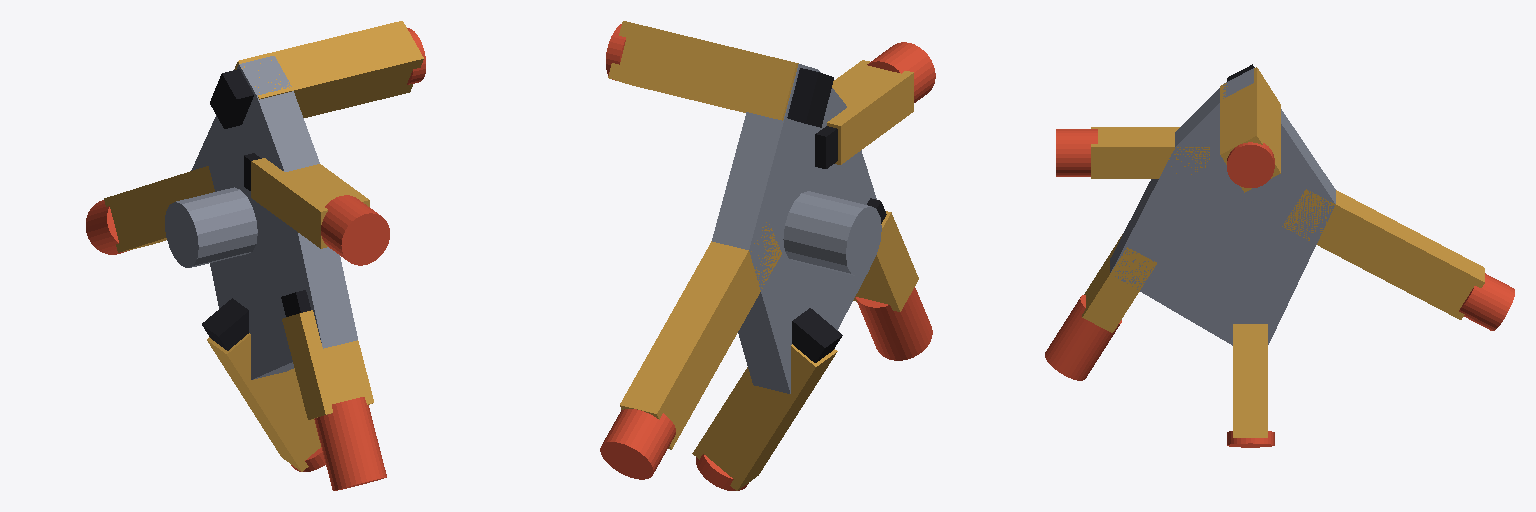
The robot description file, URDF, robot "g0057_c10":
<robot name="g0057_c10">
  <link name="palm">
    <visual name="palm_palm1">
      <origin xyz="0 0 0" rpy="0 0 0" />
      <geometry>
        <mesh filename="palm_palm1.obj" />
      </geometry>
      <material name="palm_palm1_mat">
        <color rgba="0.55 0.57 0.62 1" />
      </material>
    </visual>
    <collision>
      <origin xyz="0 0 0" rpy="0 0 0" />
      <geometry>
        <mesh filename="palm_palm1.obj" />
      </geometry>
    </collision>
    <visual name="palm_mount2">
      <origin xyz="0 0 0" rpy="0 0 0" />
      <geometry>
        <mesh filename="palm_mount2.obj" />
      </geometry>
      <material name="palm_mount2_mat">
        <color rgba="0.55 0.57 0.62 1" />
      </material>
    </visual>
    <collision>
      <origin xyz="0 0 0" rpy="0 0 0" />
      <geometry>
        <mesh filename="palm_mount2.obj" />
      </geometry>
    </collision>
    <visual name="palm_motor3">
      <origin xyz="-0.0045 -0.07625 -0.0335048095" rpy="1.04719755 -3.061617e-17 -5.30287619e-17" />
      <geometry>
        <box size="0.029 0.034 0.02" />
      </geometry>
      <material name="palm_motor3_mat">
        <color rgba="0.15 0.15 0.17 1" />
      </material>
    </visual>
    <collision>
      <origin xyz="-0.0045 -0.07625 -0.0335048095" rpy="1.04719755 -3.061617e-17 -5.30287619e-17" />
      <geometry>
        <box size="0.029 0.034 0.02" />
      </geometry>
    </collision>
    <visual name="palm_motor4">
      <origin xyz="-0.0045 -0.0325 0.04" rpy="1.8369702e-16 -6.123234e-17 -1.12481984e-32" />
      <geometry>
        <box size="0.029 0.034 0.02" />
      </geometry>
      <material name="palm_motor4_mat">
        <color rgba="0.15 0.15 0.17 1" />
      </material>
    </visual>
    <collision>
      <origin xyz="-0.0045 -0.0325 0.04" rpy="1.8369702e-16 -6.123234e-17 -1.12481984e-32" />
      <geometry>
        <box size="0.029 0.034 0.02" />
      </geometry>
    </collision>
    <visual name="palm_motor5">
      <origin xyz="-0.0117894192 -7.95431429e-19 -0.0735048095" rpy="1.57079633 -0.523598776 -1.41410032e-16" />
      <geometry>
        <box size="0.029 0.034 0.02" />
      </geometry>
      <material name="palm_motor5_mat">
        <color rgba="0.15 0.15 0.17 1" />
      </material>
    </visual>
    <collision>
      <origin xyz="-0.0117894192 -7.95431429e-19 -0.0735048095" rpy="1.57079633 -0.523598776 -1.41410032e-16" />
      <geometry>
        <box size="0.029 0.034 0.02" />
      </geometry>
    </collision>
    <visual name="palm_motor6">
      <origin xyz="-0.007 2.29621275e-19 0.08" rpy="-1.06057524e-16 1.04719755 1.57079633" />
      <geometry>
        <box size="0.029 0.034 0.02" />
      </geometry>
      <material name="palm_motor6_mat">
        <color rgba="0.15 0.15 0.17 1" />
      </material>
    </visual>
    <collision>
      <origin xyz="-0.007 2.29621275e-19 0.08" rpy="-1.06057524e-16 1.04719755 1.57079633" />
      <geometry>
        <box size="0.029 0.034 0.02" />
      </geometry>
    </collision>
    <visual name="palm_motor7">
      <origin xyz="0 0.0335048095 0.00375" rpy="1.57079633 1.04719755 -1.57079633" />
      <geometry>
        <box size="0.029 0.034 0.02" />
      </geometry>
      <material name="palm_motor7_mat">
        <color rgba="0.15 0.15 0.17 1" />
      </material>
    </visual>
    <collision>
      <origin xyz="0 0.0335048095 0.00375" rpy="1.57079633 1.04719755 -1.57079633" />
      <geometry>
        <box size="0.029 0.034 0.02" />
      </geometry>
    </collision>
    <inertial>
      <origin xyz="1.64261526e-19 -0.0145355074 -0.00623926827" rpy="1.57079633 -1.36880878 1.57079633" />
      <mass value="0.752005907" />
      <inertia ixx="0.000812735968" ixy="0" ixz="0" iyy="0.00161971793" iyz="0" izz="0.00236026133" />
    </inertial>
  </link>
  <link name="f0_link0">
    <visual name="f0_link0_link1">
      <origin xyz="0.01875 0 -1.38777878e-17" rpy="0 4.06369831e-17 0" />
      <geometry>
        <box size="0.0615 0.033 0.024" />
      </geometry>
      <material name="f0_link0_link1_mat">
        <color rgba="0.80 0.62 0.30 1" />
      </material>
    </visual>
    <collision>
      <origin xyz="0.01875 0 -1.38777878e-17" rpy="0 4.06369831e-17 0" />
      <geometry>
        <box size="0.0615 0.033 0.024" />
      </geometry>
    </collision>
    <inertial>
      <origin xyz="0.01875 0 0" rpy="0 0 0" />
      <mass value="0.085239" />
      <inertia ixx="1.18269113e-05" ixy="0" ixz="0" iyy="3.09577393e-05" iyz="0" izz="3.46017066e-05" />
    </inertial>
  </link>
  <link name="f0_link1">
    <visual name="f0_link1_link1">
      <origin xyz="0.029 0 -6.9388939e-18" rpy="-1.57079633 -0 -1.57079633" />
      <geometry>
        <cylinder radius="0.0165" length="0.049" />
      </geometry>
      <material name="f0_link1_link1_mat">
        <color rgba="0.85 0.35 0.25 1" />
      </material>
    </visual>
    <collision>
      <origin xyz="0.029 0 -6.9388939e-18" rpy="-1.57079633 -0 -1.57079633" />
      <geometry>
        <cylinder radius="0.0165" length="0.049" />
      </geometry>
    </collision>
    <inertial>
      <origin xyz="0.029 0 0" rpy="0 0 0" />
      <mass value="0.106270851" />
      <inertia ixx="1.35696277e-05" ixy="0" ixz="0" iyy="5.30015704e-05" iyz="0" izz="5.30015704e-05" />
    </inertial>
  </link>
  <link name="f1_link0">
    <visual name="f1_link0_link1">
      <origin xyz="0.02875 0 0" rpy="0 -0 0" />
      <geometry>
        <box size="0.0815 0.033 0.024" />
      </geometry>
      <material name="f1_link0_link1_mat">
        <color rgba="0.80 0.62 0.30 1" />
      </material>
    </visual>
    <collision>
      <origin xyz="0.02875 0 0" rpy="0 -0 0" />
      <geometry>
        <box size="0.0815 0.033 0.024" />
      </geometry>
    </collision>
    <inertial>
      <origin xyz="0.02875 0 0" rpy="0 0 0" />
      <mass value="0.112959" />
      <inertia ixx="1.56730613e-05" ixy="0" ixz="0" iyy="6.79471918e-05" iyz="0" izz="7.27761891e-05" />
    </inertial>
  </link>
  <link name="f1_link1">
    <visual name="f1_link1_link1">
      <origin xyz="0.019 0 0" rpy="-1.57079633 -0 -1.57079633" />
      <geometry>
        <cylinder radius="0.0165" length="0.029" />
      </geometry>
      <material name="f1_link1_link1_mat">
        <color rgba="0.85 0.35 0.25 1" />
      </material>
    </visual>
    <collision>
      <origin xyz="0.019 0 0" rpy="-1.57079633 -0 -1.57079633" />
      <geometry>
        <cylinder radius="0.0165" length="0.029" />
      </geometry>
    </collision>
    <inertial>
      <origin xyz="0.019 0 0" rpy="0 0 0" />
      <mass value="0.0763354" />
      <inertia ixx="9.49466441e-06" ixy="0" ixz="0" iyy="2.24143997e-05" iyz="0" izz="2.24143997e-05" />
    </inertial>
  </link>
  <link name="f2_link0">
    <visual name="f2_link0_link1">
      <origin xyz="0.03875 0 1.54074396e-33" rpy="-5.52779628e-33 -5.52024069e-33 4.06369831e-17" />
      <geometry>
        <box size="0.1015 0.033 0.024" />
      </geometry>
      <material name="f2_link0_link1_mat">
        <color rgba="0.80 0.62 0.30 1" />
      </material>
    </visual>
    <collision>
      <origin xyz="0.03875 0 1.54074396e-33" rpy="-5.52779628e-33 -5.52024069e-33 4.06369831e-17" />
      <geometry>
        <box size="0.1015 0.033 0.024" />
      </geometry>
    </collision>
    <inertial>
      <origin xyz="0.03875 0 0" rpy="0 0 0" />
      <mass value="0.140679" />
      <inertia ixx="1.95192113e-05" ixy="0" ixz="0" iyy="0.000127528444" iyz="0" izz="0.000133542472" />
    </inertial>
  </link>
  <link name="f2_link1">
    <visual name="f2_link1_link1">
      <origin xyz="0.009 0 0" rpy="-1.57079633 -0 -1.57079633" />
      <geometry>
        <cylinder radius="0.0165" length="0.009" />
      </geometry>
      <material name="f2_link1_link1_mat">
        <color rgba="0.85 0.35 0.25 1" />
      </material>
    </visual>
    <collision>
      <origin xyz="0.009 0 0" rpy="-1.57079633 -0 -1.57079633" />
      <geometry>
        <cylinder radius="0.0165" length="0.009" />
      </geometry>
    </collision>
    <inertial>
      <origin xyz="0.009 0 0" rpy="0 0 0" />
      <mass value="0.046399949" />
      <inertia ixx="5.41970115e-06" ixy="0" ixz="0" iyy="7.09430898e-06" iyz="0" izz="7.09430898e-06" />
    </inertial>
  </link>
  <link name="f3_link0">
    <visual name="f3_link0_link1">
      <origin xyz="0.04375 1.38777878e-17 0" rpy="3.98552134e-18 1.1024023e-33 1.87768018e-33" />
      <geometry>
        <box size="0.1115 0.033 0.029" />
      </geometry>
      <material name="f3_link0_link1_mat">
        <color rgba="0.80 0.62 0.30 1" />
      </material>
    </visual>
    <collision>
      <origin xyz="0.04375 1.38777878e-17 0" rpy="3.98552134e-18 1.1024023e-33 1.87768018e-33" />
      <geometry>
        <box size="0.1115 0.033 0.029" />
      </geometry>
    </collision>
    <inertial>
      <origin xyz="0.04375 0 0" rpy="0 0 0" />
      <mass value="0.186734625" />
      <inertia ixx="3.00331522e-05" ixy="0" ixz="0" iyy="0.000206547947" iyz="0" izz="0.000210407129" />
    </inertial>
  </link>
  <link name="f3_link1">
    <visual name="f3_link1_link1">
      <origin xyz="0.009 1.38777878e-17 -6.9388939e-18" rpy="-1.57079633 -0 -1.57079633" />
      <geometry>
        <cylinder radius="0.0165" length="0.009" />
      </geometry>
      <material name="f3_link1_link1_mat">
        <color rgba="0.85 0.35 0.25 1" />
      </material>
    </visual>
    <collision>
      <origin xyz="0.009 1.38777878e-17 -6.9388939e-18" rpy="-1.57079633 -0 -1.57079633" />
      <geometry>
        <cylinder radius="0.0165" length="0.009" />
      </geometry>
    </collision>
    <inertial>
      <origin xyz="0.009 0 0" rpy="0 0 0" />
      <mass value="0.046399949" />
      <inertia ixx="5.41970115e-06" ixy="0" ixz="0" iyy="7.09430898e-06" iyz="0" izz="7.09430898e-06" />
    </inertial>
  </link>
  <link name="f4_link0">
    <visual name="f4_link0_link1">
      <origin xyz="0.02375 0 -3.46944695e-18" rpy="0 2.57628149e-17 0" />
      <geometry>
        <box size="0.0715 0.024 0.033" />
      </geometry>
      <material name="f4_link0_link1_mat">
        <color rgba="0.80 0.62 0.30 1" />
      </material>
    </visual>
    <collision>
      <origin xyz="0.02375 0 -3.46944695e-18" rpy="0 2.57628149e-17 0" />
      <geometry>
        <box size="0.0715 0.024 0.033" />
      </geometry>
    </collision>
    <inertial>
      <origin xyz="0.02375 0 0" rpy="0 0 0" />
      <mass value="0.099099" />
      <inertia ixx="1.37499863e-05" ixy="0" ixz="0" iyy="5.12114728e-05" iyz="0" izz="4.69749906e-05" />
    </inertial>
  </link>
  <link name="f4_link1">
    <visual name="f4_link1_link1">
      <origin xyz="0.03375 0 6.9388939e-18" rpy="0 2.57628149e-17 0" />
      <geometry>
        <box size="0.0915 0.024 0.033" />
      </geometry>
      <material name="f4_link1_link1_mat">
        <color rgba="0.80 0.62 0.30 1" />
      </material>
    </visual>
    <collision>
      <origin xyz="0.03375 0 6.9388939e-18" rpy="0 2.57628149e-17 0" />
      <geometry>
        <box size="0.0915 0.024 0.033" />
      </geometry>
    </collision>
    <inertial>
      <origin xyz="0.03375 0 0" rpy="0 0 0" />
      <mass value="0.126819" />
      <inertia ixx="1.75961363e-05" ixy="0" ixz="0" iyy="9.99888553e-05" iyz="0" izz="9.45673431e-05" />
    </inertial>
  </link>
  <link name="f4_link2">
    <visual name="f4_link2_link1">
      <origin xyz="0.019 0 5.20417043e-18" rpy="-1.57079633 -0 -1.57079633" />
      <geometry>
        <cylinder radius="0.0165" length="0.029" />
      </geometry>
      <material name="f4_link2_link1_mat">
        <color rgba="0.85 0.35 0.25 1" />
      </material>
    </visual>
    <collision>
      <origin xyz="0.019 0 5.20417043e-18" rpy="-1.57079633 -0 -1.57079633" />
      <geometry>
        <cylinder radius="0.0165" length="0.029" />
      </geometry>
    </collision>
    <inertial>
      <origin xyz="0.019 0 0" rpy="0 0 0" />
      <mass value="0.0763354" />
      <inertia ixx="9.49466441e-06" ixy="0" ixz="0" iyy="2.24143997e-05" iyz="0" izz="2.24143997e-05" />
    </inertial>
  </link>
  <joint name="f0_j0" type="revolute">
    <parent link="palm" />
    <child link="f0_link0" />
    <origin xyz="-0.0045 -0.08 -0.04" rpy="0 1.04719755 -1.57079633" />
    <axis xyz="0 1 6.123234e-17" />
    <limit effort="0.5" lower="-0.523598776" upper="0.523598776" velocity="5" />
    <dynamics damping="0.0775033" friction="0" />
  </joint>
  <joint name="f0_j1" type="revolute">
    <parent link="f0_link0" />
    <child link="f0_link1" />
    <origin xyz="0.04 0 0" rpy="0 0 0" />
    <axis xyz="0 1 6.123234e-17" />
    <limit effort="0.5" lower="-0.523598776" upper="0.523598776" velocity="5" />
    <dynamics damping="0.0775033" friction="0" />
  </joint>
  <joint name="f1_j0" type="revolute">
    <parent link="palm" />
    <child link="f1_link0" />
    <origin xyz="-0.0045 -0.04 0.04" rpy="0 1.8369702e-16 -1.57079633" />
    <axis xyz="-0 -1 -6.123234e-17" />
    <limit effort="0.5" lower="-0.523598776" upper="0.523598776" velocity="5" />
    <dynamics damping="0.0775033" friction="0" />
  </joint>
  <joint name="f1_j1" type="revolute">
    <parent link="f1_link0" />
    <child link="f1_link1" />
    <origin xyz="0.06 0 0" rpy="0 0 0" />
    <axis xyz="-0 -1 -6.123234e-17" />
    <limit effort="0.5" lower="-0.523598776" upper="0.523598776" velocity="5" />
    <dynamics damping="0.0775033" friction="0" />
  </joint>
  <joint name="f2_j0" type="revolute">
    <parent link="palm" />
    <child link="f2_link0" />
    <origin xyz="-0.00803941916 0 -0.08" rpy="1.57079633 1.04719755 2.12115048e-16" />
    <axis xyz="0 1 6.123234e-17" />
    <limit effort="0.5" lower="-0.523598776" upper="0.523598776" velocity="5" />
    <dynamics damping="0.0775033" friction="0" />
  </joint>
  <joint name="f2_j1" type="revolute">
    <parent link="f2_link0" />
    <child link="f2_link1" />
    <origin xyz="0.08 0 0" rpy="0 0 0" />
    <axis xyz="0 1 6.123234e-17" />
    <limit effort="0.5" lower="-0.523598776" upper="0.523598776" velocity="5" />
    <dynamics damping="0.0775033" friction="0" />
  </joint>
  <joint name="f3_j0" type="revolute">
    <parent link="palm" />
    <child link="f3_link0" />
    <origin xyz="0.0005 0 0.08" rpy="-1.04719755 -5.30287619e-17 -3.061617e-17" />
    <axis xyz="-0 -1 -6.123234e-17" />
    <limit effort="0.5" lower="-0.523598776" upper="0.523598776" velocity="5" />
    <dynamics damping="0.0775033" friction="0" />
  </joint>
  <joint name="f3_j1" type="revolute">
    <parent link="f3_link0" />
    <child link="f3_link1" />
    <origin xyz="0.09 0 0" rpy="0 0 0" />
    <axis xyz="0 0 1" />
    <limit effort="0.5" lower="-0.523598776" upper="1.57079633" velocity="5" />
    <dynamics damping="0.0775033" friction="0" />
  </joint>
  <joint name="f4_j0" type="revolute">
    <parent link="palm" />
    <child link="f4_link0" />
    <origin xyz="0 0.04 0" rpy="3.14159265 0.523598776 1.57079633" />
    <axis xyz="0 0 1" />
    <limit effort="0.5" lower="-0.523598776" upper="1.57079633" velocity="5" />
    <dynamics damping="0.0775033" friction="0" />
  </joint>
  <joint name="f4_j1" type="revolute">
    <parent link="f4_link0" />
    <child link="f4_link1" />
    <origin xyz="0.05 0 0" rpy="0 0 0" />
    <axis xyz="0 0 1" />
    <limit effort="0.5" lower="-0.523598776" upper="1.57079633" velocity="5" />
    <dynamics damping="0.0775033" friction="0" />
  </joint>
  <joint name="f4_j2" type="revolute">
    <parent link="f4_link1" />
    <child link="f4_link2" />
    <origin xyz="0.07 0 0" rpy="0 0 0" />
    <axis xyz="0 0 1" />
    <limit effort="0.5" lower="-0.523598776" upper="1.57079633" velocity="5" />
    <dynamics damping="0.0775033" friction="0" />
  </joint>
</robot>

--- Facts derived from the render (not from the file) ---
3 views of the same robot in one strip: view 1: azimuth 30°, elevation 25°; view 2: azimuth 150°, elevation 25°; view 3: azimuth 270°, elevation 25° (orthographic).
Model g0057_c10 with 12 links and 11 joints (11 revolute), rooted at palm, posed every joint at zero.
Visible links, largest first — view 1: palm, f3_link0, f2_link0, f0_link0, f1_link0, f0_link1, f1_link1, f4_link1, f4_link2, f4_link0; view 2: palm, f3_link0, f4_link1, f2_link0, f1_link0, f4_link0, f4_link2, f0_link1, f0_link0, f1_link1, f2_link1, f3_link1; view 3: palm, f4_link1, f1_link0, f4_link0, f2_link0, f3_link0, f0_link0, f0_link1, f4_link2, f3_link1, f1_link1, f2_link1.
Link boxes in pixels (x1,y1,x2,y2): palm: (165, 56, 357, 379); f3_link0: (234, 21, 423, 117); f2_link0: (207, 333, 320, 471); f0_link0: (282, 310, 373, 419); f1_link0: (251, 158, 369, 248); f0_link1: (314, 397, 386, 490); f1_link1: (321, 195, 389, 265); f4_link1: (104, 177, 177, 252); f4_link2: (86, 200, 129, 254); f4_link0: (172, 166, 214, 200); palm: (712, 64, 886, 393); f3_link0: (608, 21, 798, 120); f4_link1: (620, 281, 742, 449); f2_link0: (692, 344, 837, 490); f1_link0: (827, 60, 913, 164); f4_link0: (674, 222, 781, 350); f4_link2: (600, 409, 675, 479); f0_link1: (855, 287, 932, 360); f0_link0: (853, 211, 918, 311); f1_link1: (867, 42, 935, 102); f2_link1: (696, 454, 748, 490); f3_link1: (606, 24, 625, 80); palm: (1110, 64, 1335, 345); f4_link1: (1364, 207, 1484, 319); f1_link0: (1091, 127, 1209, 178); f4_link0: (1282, 189, 1395, 273); f2_link0: (1233, 324, 1267, 437); f3_link0: (1220, 67, 1280, 192); f0_link0: (1082, 234, 1156, 332); f0_link1: (1045, 295, 1121, 380); f4_link2: (1459, 273, 1514, 330); f3_link1: (1227, 142, 1274, 187); f1_link1: (1056, 129, 1097, 176); f2_link1: (1227, 431, 1274, 447).
Bounding box of the posed robot: 0.156 × 0.3222 × 0.2708 m (x, y, z).
Meshes: 2 distinct files referenced, 2 mesh visuals loaded (2 OBJ).
